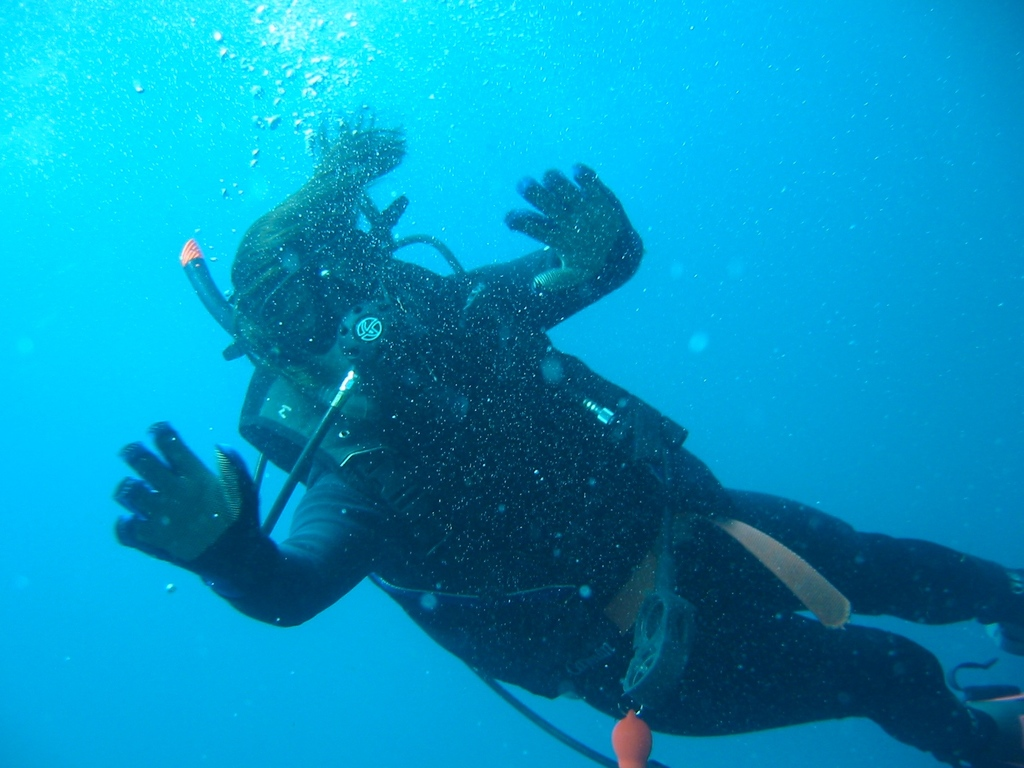Person: (115, 103, 1024, 768)
